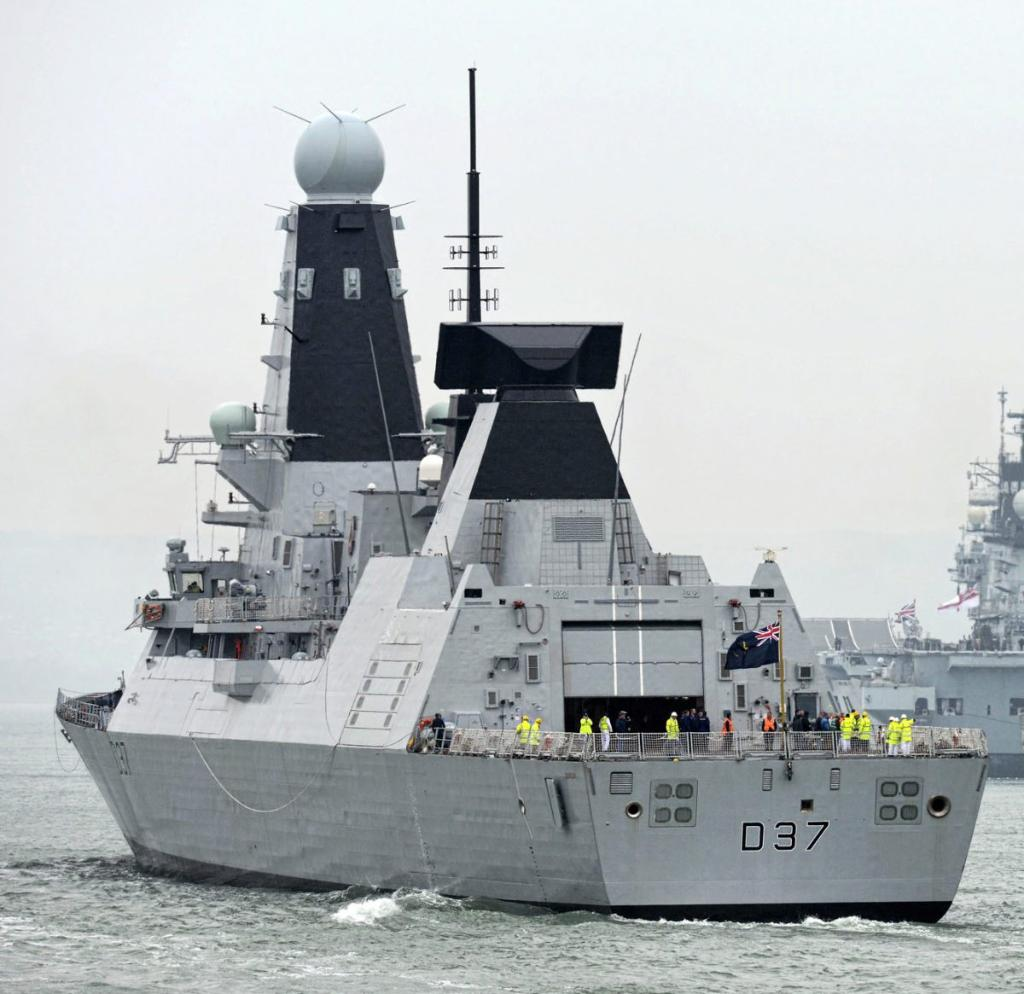Warship: (41, 87, 1003, 934)
